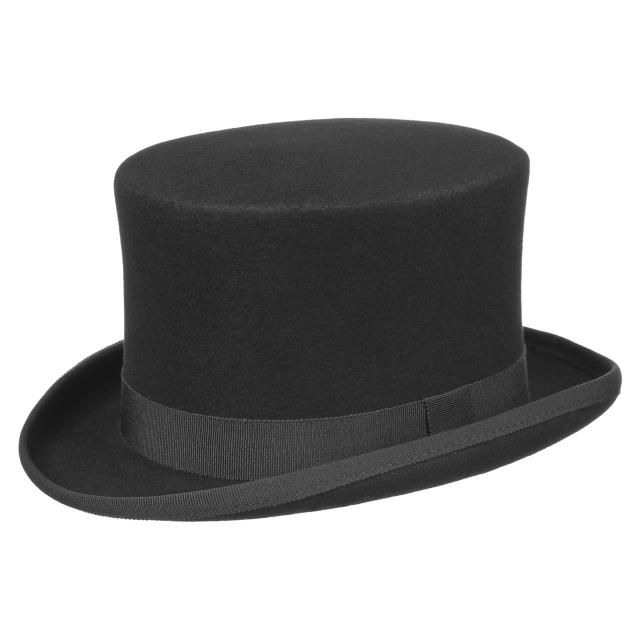hat: (14, 118, 630, 530)
